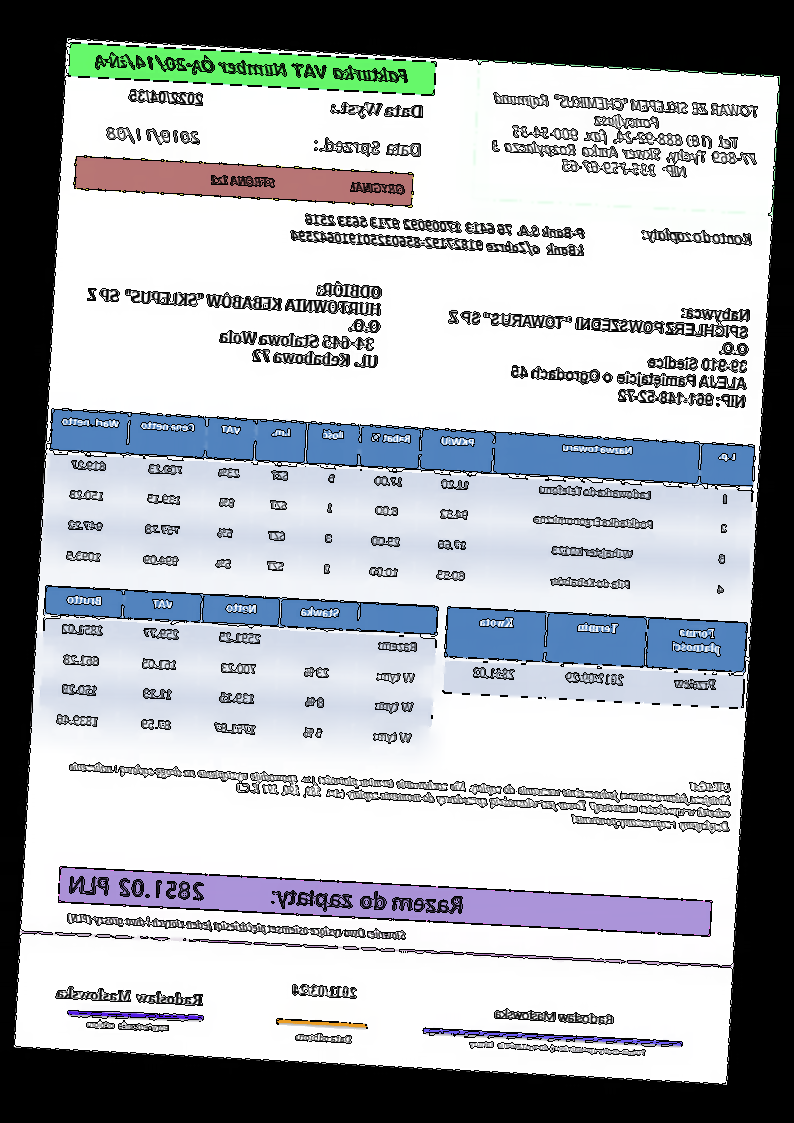Table: (43, 405, 757, 609), (37, 582, 442, 758), (443, 606, 748, 709)
TextBox: (63, 743, 733, 836), (441, 289, 754, 412), (80, 266, 386, 372), (486, 85, 766, 186), (67, 871, 466, 921), (286, 208, 590, 261), (91, 48, 414, 90), (63, 908, 409, 946), (206, 170, 410, 200), (465, 1034, 648, 1060), (55, 983, 207, 1011), (639, 221, 757, 251), (310, 134, 425, 162), (491, 1004, 618, 1027), (326, 97, 427, 124), (103, 122, 204, 149), (127, 85, 207, 109), (288, 980, 362, 1003), (83, 1017, 171, 1036), (292, 1028, 355, 1047)
